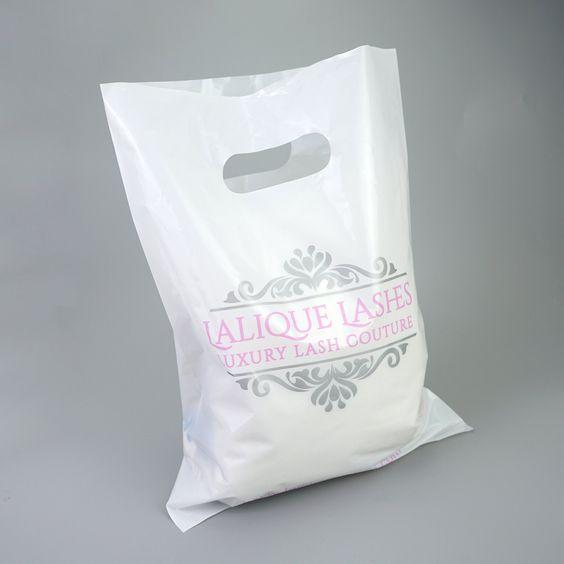LDPE: (0, 0, 552, 564)
